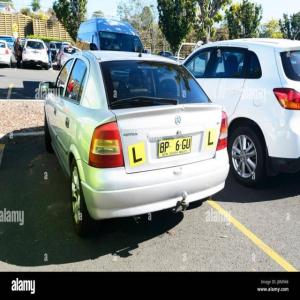Plate: (158, 136, 192, 157)
